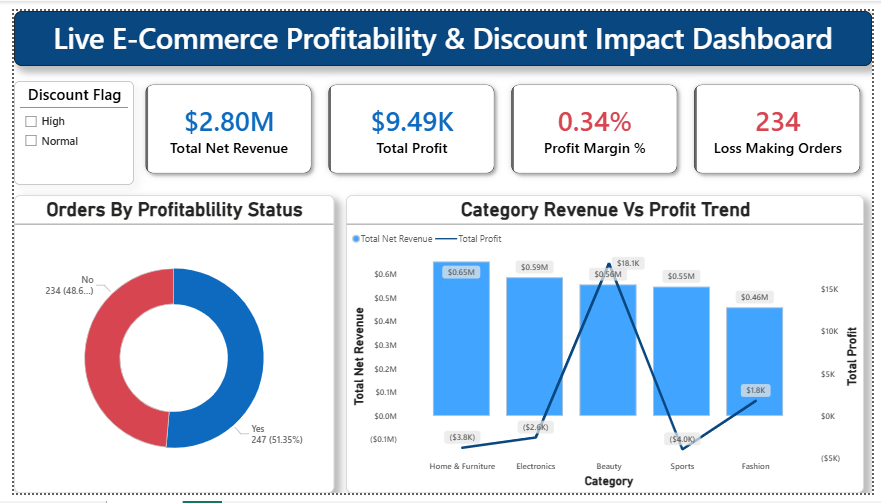

This screenshot's page, from the dashboard's own definition file:
{"tool":"powerbi","page":{"name":"Page 1","canvas":[1280,720],"ordinal":0},"visuals":[{"type":"cardVisual","fields":{"Data":["ecom_live_project daily_sales_data.Total Net Revenue","ecom_live_project daily_sales_data.Total Profit","ecom_live_project daily_sales_data.Profit Margin %","ecom_live_project daily_sales_data.Loss Making Orders"]},"box":[179.1,92.5,1101.5,167.2],"z":0},{"type":"lineClusteredColumnComboChart","title":"Category Revenue Vs Profit Trend","fields":{"Category":["ecom_live_project daily_sales_data.category"],"Y":["ecom_live_project daily_sales_data.Total Net Revenue"],"Y2":["ecom_live_project daily_sales_data.Total Profit"]},"box":[495.5,274.6,773.1,444.8],"z":1000},{"type":"donutChart","title":"Orders By Profitablility Status","fields":{"Category":["ecom_live_project daily_sales_data.is_profitable"],"Y":["CountNonNull(ecom_live_project daily_sales_data.order_id)"]},"box":[0,274.6,477.6,444.8],"z":2000},{"type":"slicer","title":"Discount Flag","fields":{"Values":["ecom_live_project daily_sales_data.discount_flag"]},"box":[0,104.5,179.1,155.2],"z":3000},{"type":"textbox","box":[0,0,1280.6,82.1],"z":4000}]}

Visuals, with their boxes in screenshot pixels (x1, y1, x2, y2), scaled from the page's 1280x720 canvas onto the 881x503 screenshot:
cardVisual - ecom_live_project daily_sales_data.Total Net Revenue x ecom_live_project daily_sales_data.Total Profit: left=123, top=65, right=880, bottom=181
"Category Revenue Vs Profit Trend" lineClusteredColumnComboChart: left=341, top=192, right=873, bottom=502
"Orders By Profitablility Status" donutChart: left=0, top=192, right=329, bottom=502
"Discount Flag" slicer: left=0, top=73, right=123, bottom=181
textbox: left=0, top=0, right=880, bottom=57
